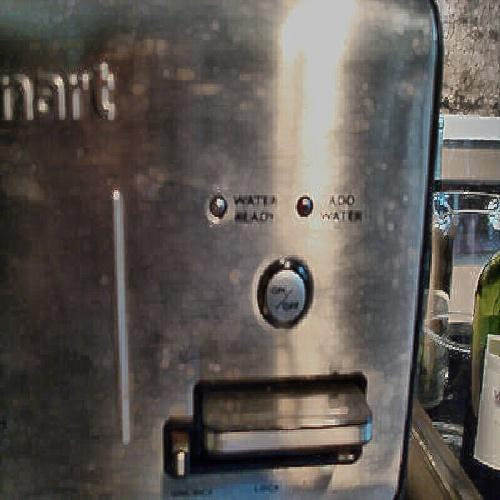coffee_maker: (22, 14, 432, 480)
